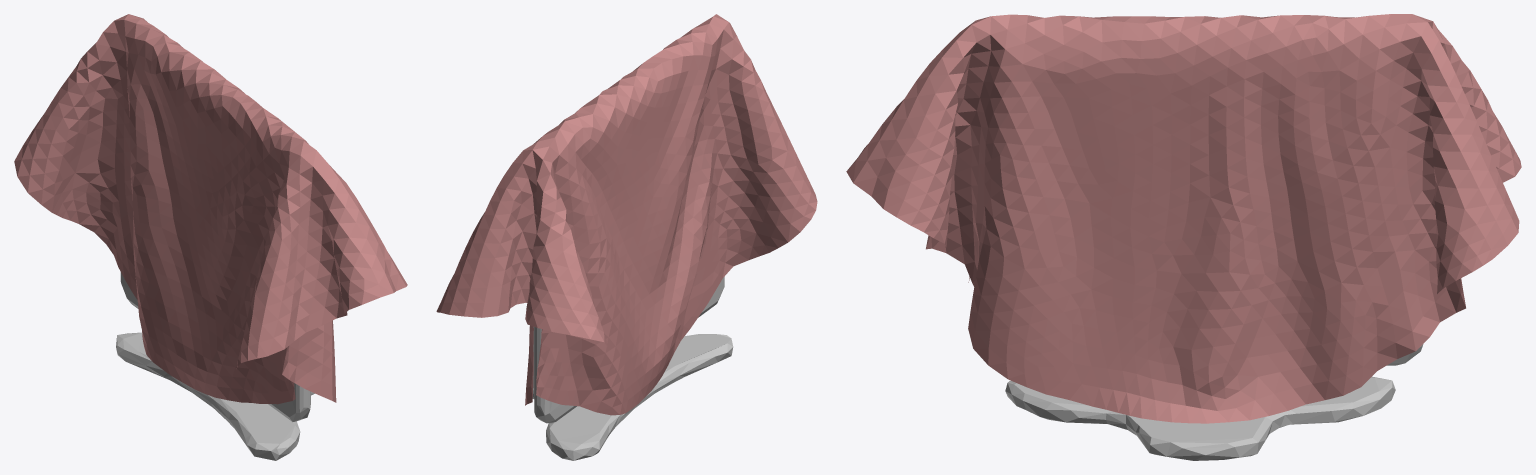
File: level_1.glb
The picture shows the model from 3 angles, left to right: view 1: azimuth 30°, elevation 25°; view 2: azimuth 150°, elevation 25°; view 3: azimuth 270°, elevation 25°; orthographic projection. The views are drawn at different scales.
Parts seen in each view (by area): view 1: world, object.obj; view 2: world, object.obj; view 3: world, object.obj.
Boxes of the visible parts, <box> form: world: <box>14,14,407,404</box>; object.obj: <box>116,272,314,460</box>; world: <box>436,14,817,415</box>; object.obj: <box>532,277,733,460</box>; world: <box>846,14,1521,423</box>; object.obj: <box>1005,344,1423,460</box>.
Bounding box in the file's own units: 0.1703 × 0.293 × 0.4551.
